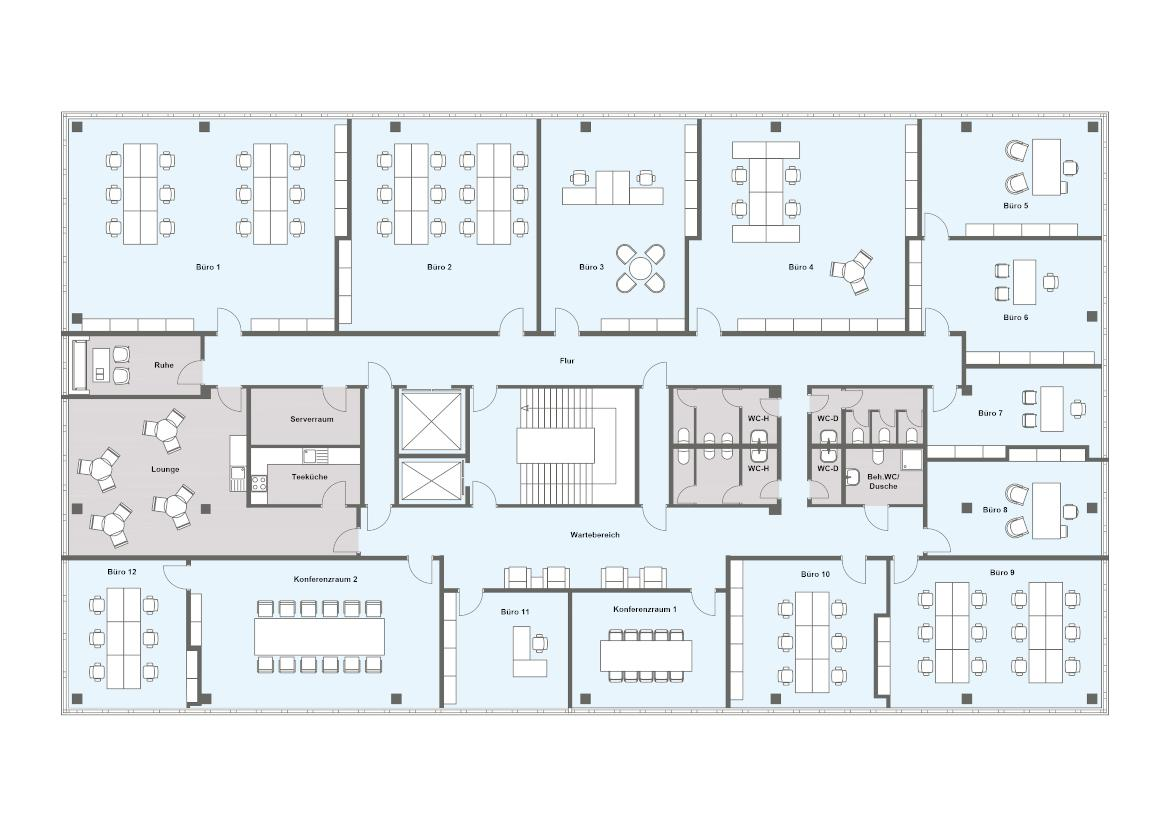room: (64, 114, 348, 333), (62, 386, 363, 557), (700, 115, 919, 334), (349, 115, 537, 334), (189, 557, 441, 712), (539, 115, 700, 334), (889, 557, 1105, 711), (908, 238, 1104, 366), (727, 557, 889, 710), (920, 115, 1104, 238), (64, 558, 187, 712), (570, 590, 728, 709), (925, 459, 1106, 558), (924, 367, 1108, 459), (442, 590, 570, 711), (809, 385, 925, 506), (670, 385, 780, 507), (64, 332, 203, 396), (249, 387, 363, 446), (249, 447, 363, 506)
